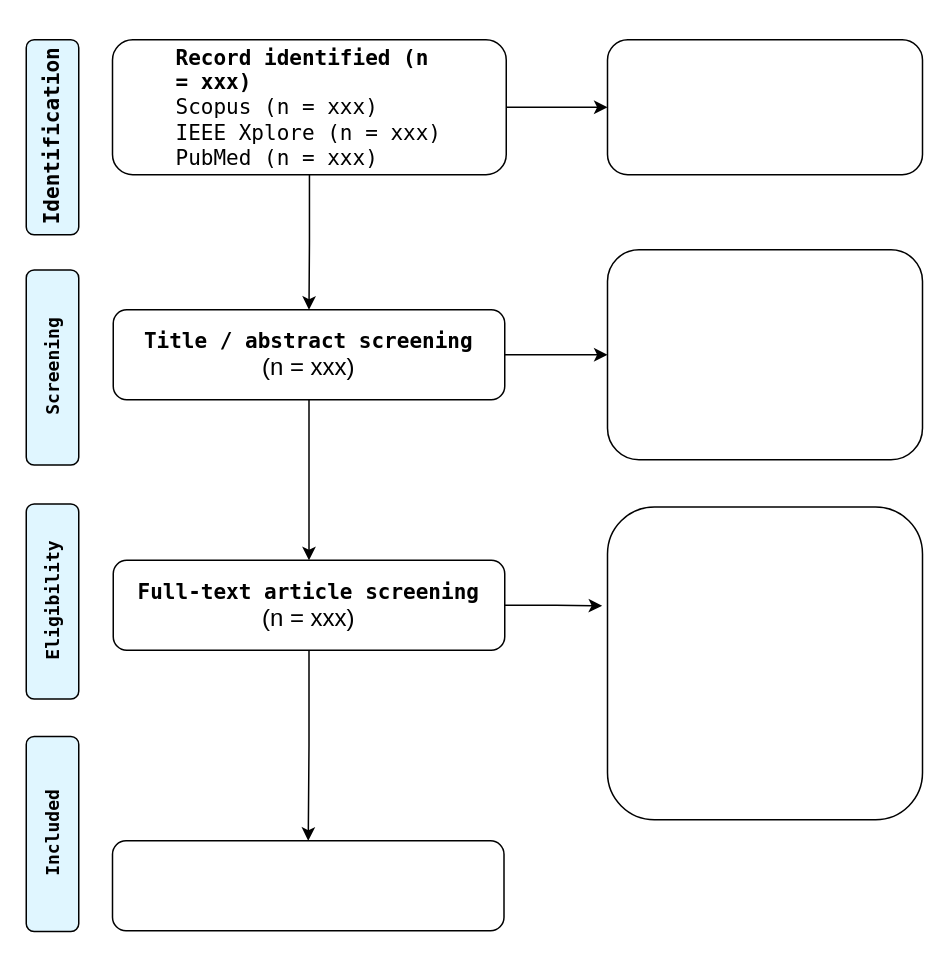
This 950x957 diagram has some shape labels left out. The shapes that lost their labels are listed below. From the top down, each one's centre as x and y in pixels, then its label:
the point at 764,106: Removed Duplicates (n = xxx)
the point at 764,354: Records excluded (n = xxx) reason 1 reason 2
the point at 764,663: Records excluded (n = xxx) reason 1 reason 2 reason 3 reason 4
the point at 307,885: Studies included
